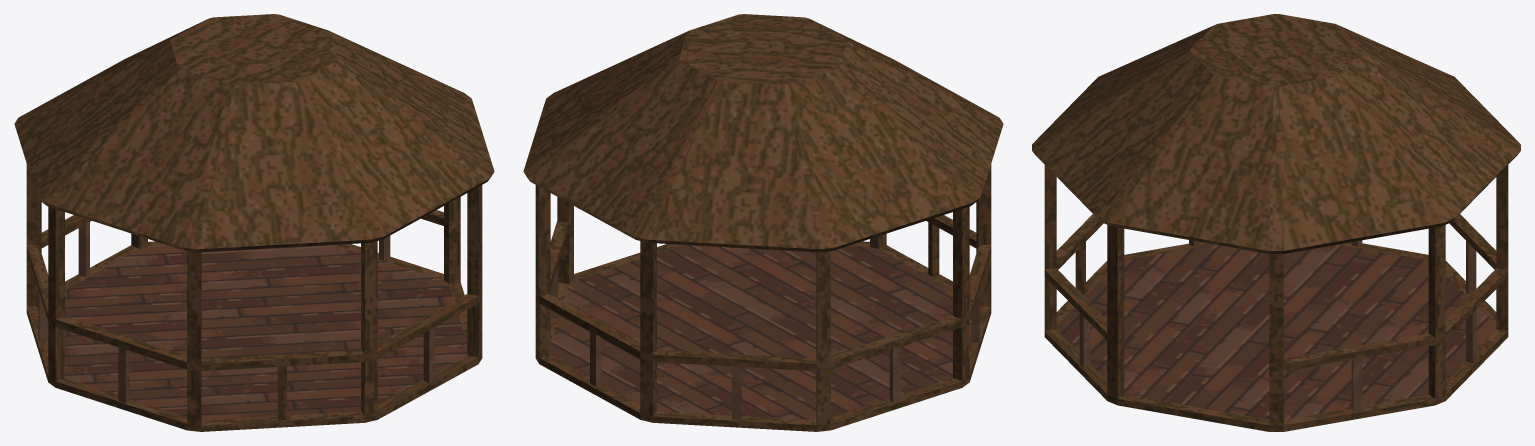
Rendered from Arbor1.fbx.
3 renders of one model, left to right at view 1: azimuth 30°, elevation 25°; view 2: azimuth 150°, elevation 25°; view 3: azimuth 270°, elevation 25°, orthographic.
Parts seen in each view (by area): view 1: Arbor1; view 2: Arbor1; view 3: Arbor1.
Boxes of the visible parts, bbox=[...] form: Arbor1: bbox=[14, 14, 494, 431]; Arbor1: bbox=[523, 14, 1003, 431]; Arbor1: bbox=[1032, 14, 1520, 431].
Size of the model in its own units: 480 by 307 by 480.
Materials: 1 (1 with a texture image).
